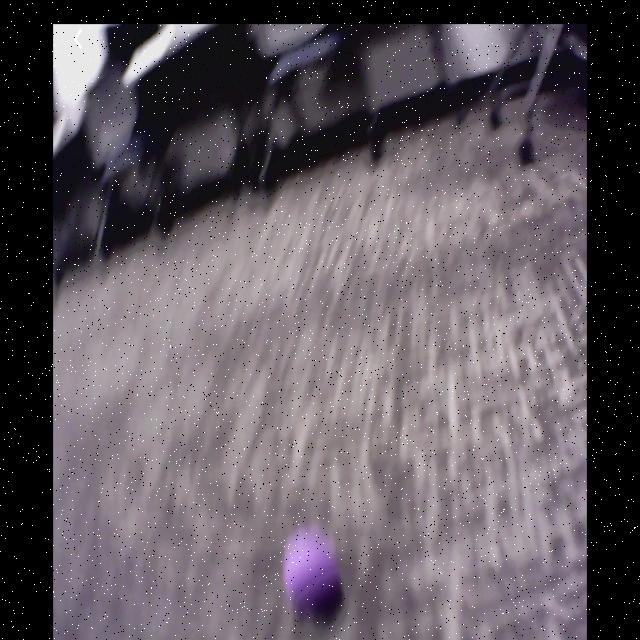ball: (286, 529, 341, 611)
